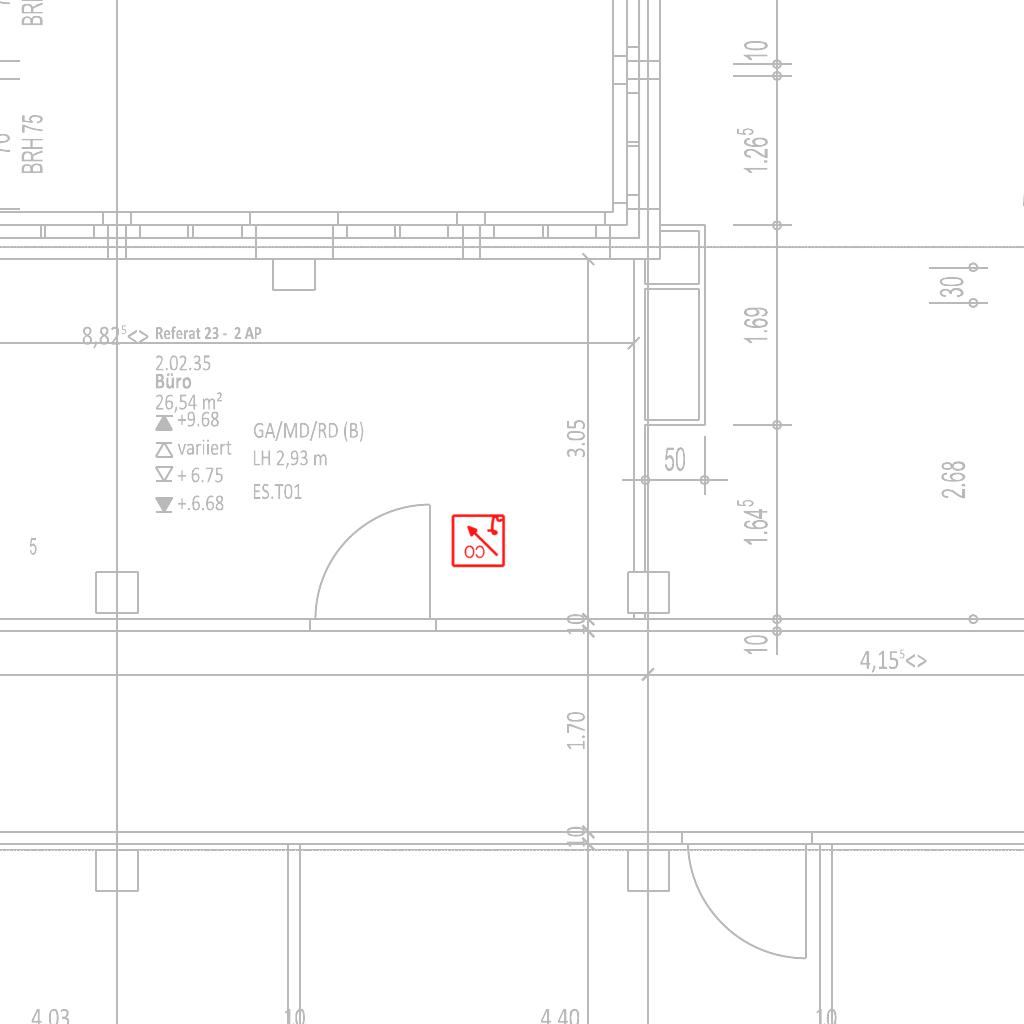ROA_Rauchmelder_optisch_mit_Signalgeber_(Sockelsirene): (450, 512, 506, 568)
